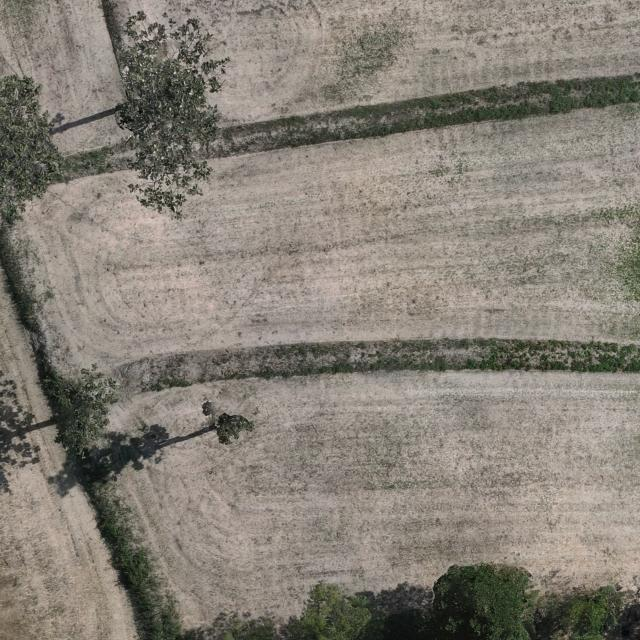Tree: (112, 8, 230, 224), (0, 74, 68, 224), (428, 561, 538, 640), (36, 360, 121, 461), (284, 579, 371, 640), (540, 585, 624, 640), (218, 614, 283, 640), (631, 563, 640, 640)
